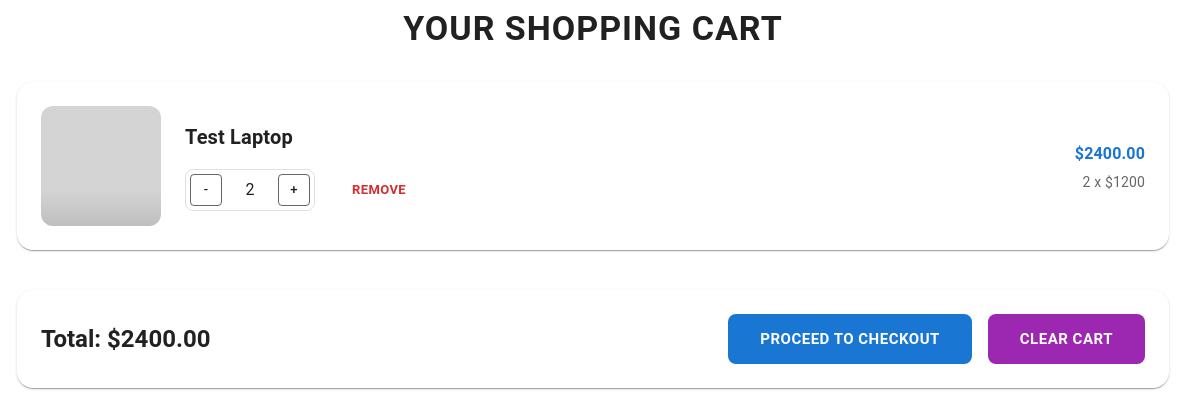
CartPage › clears the whole cart
This screenshot has width=1187, height=407.
Expected: the heading "Test Laptop" is shown, [185,125,293,149]
Click the button "Clear Cart" at (1066, 339), box [988,314,1145,364]
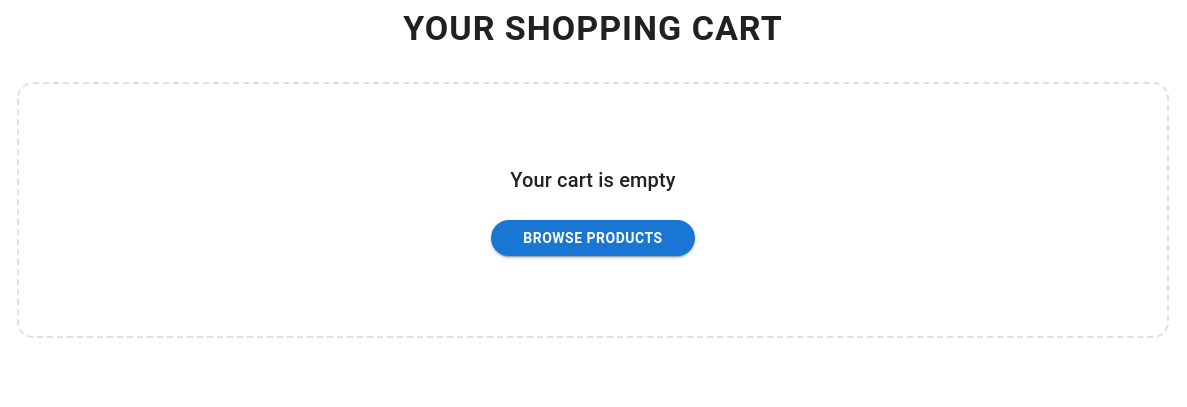
Expected: the heading "Your cart is empty" is shown, [510,168,676,192]
